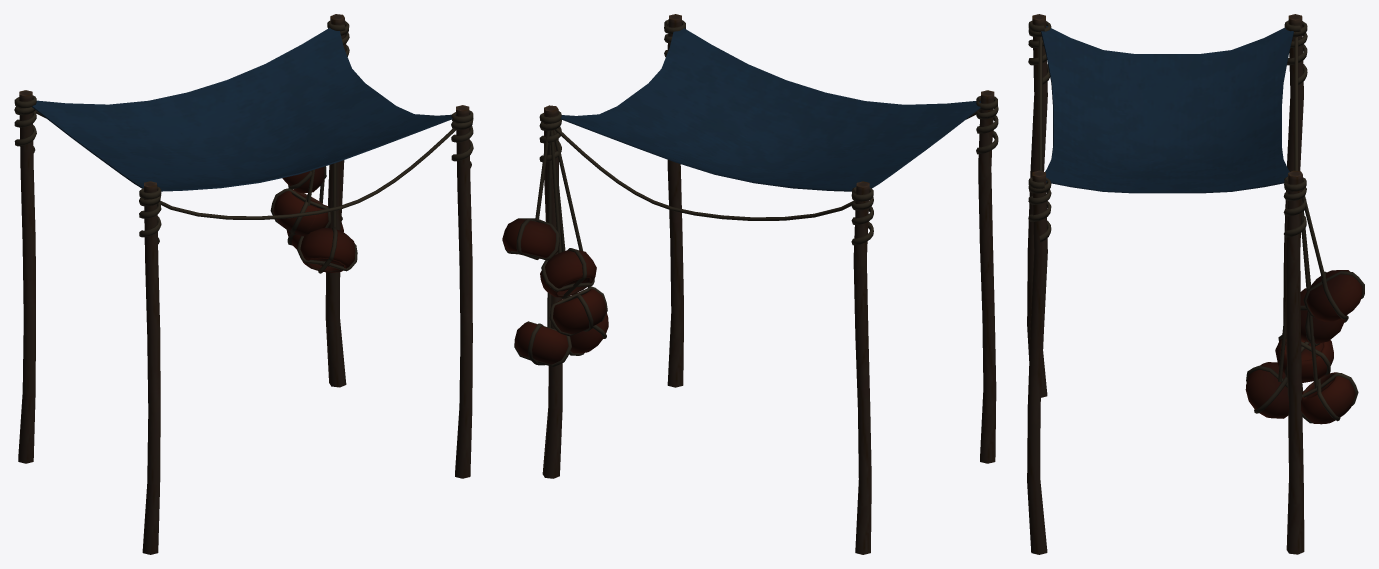
File: Tent.FBX
3 renders of one model, left to right at view 1: azimuth 30°, elevation 25°; view 2: azimuth 150°, elevation 25°; view 3: azimuth 270°, elevation 25°, orthographic. The views are drawn at different scales.
Visible parts, largest first — view 1: Tent; view 2: Tent; view 3: Tent.
Boxes of the visible parts, left/top/right/bottom form: Tent: left=14, top=14, right=473, bottom=554; Tent: left=502, top=14, right=998, bottom=554; Tent: left=1027, top=14, right=1364, bottom=554.
Bounding box in the file's own units: 6.01 × 6.03 × 4.9.
